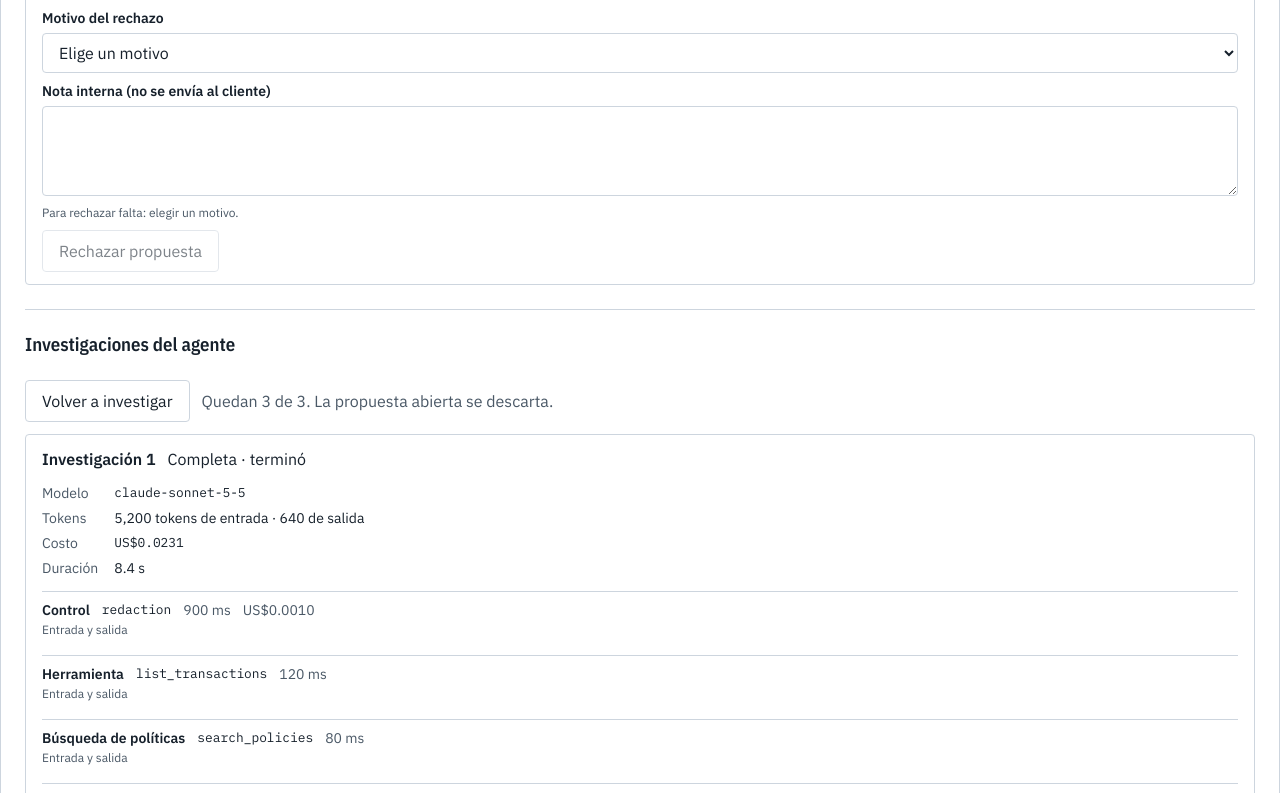
Test: run again (02 G3 re-runs, at most 3) › says when the case can no longer be run again
The image size is (1280, 793).
(page scrolled)
Step 1. Click the button "Volver a investigar" → (107, 400), box top-left (25, 380), bottom-right (190, 422)
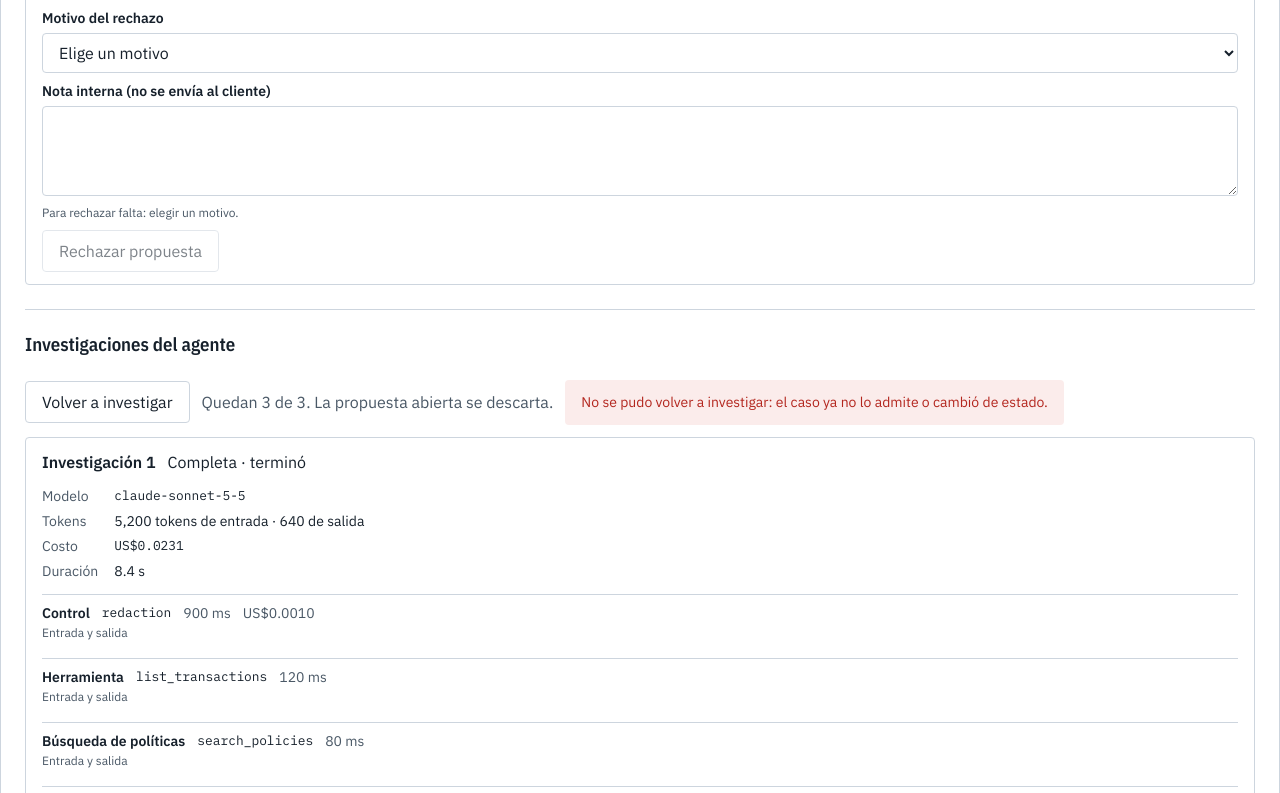
Check: the message reads "No se pudo volver a investigar: el caso ya no lo admite o cambió de estado.", box top-left (581, 392), bottom-right (1048, 410)
